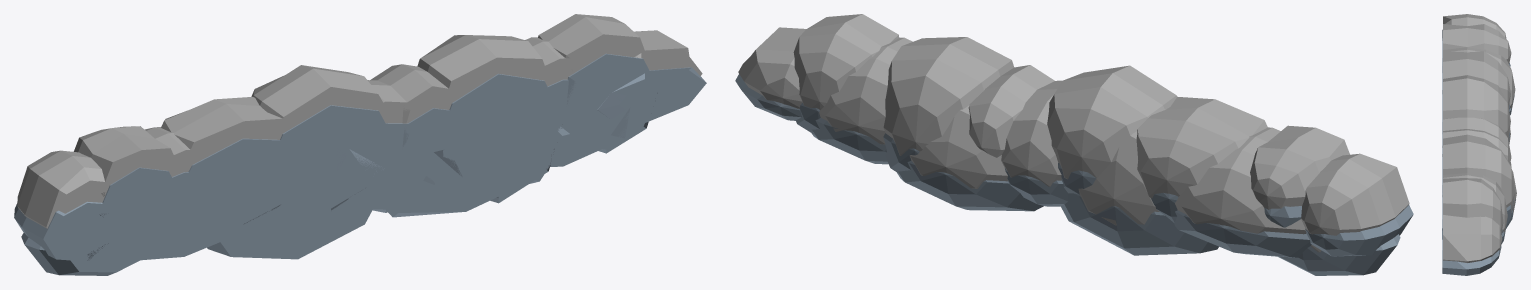
The model's file is kumo.fbx.
3 renders of one model, left to right at view 1: azimuth 30°, elevation 25°; view 2: azimuth 150°, elevation 25°; view 3: azimuth 270°, elevation 25°, orthographic. The views are drawn at different scales.
Visible parts, largest first — view 1: pSphere17; view 2: pSphere17; view 3: pSphere17.
Part boxes in pixels (x1,y1,x2,y2): pSphere17: (14, 14, 706, 275); pSphere17: (735, 14, 1413, 275); pSphere17: (1442, 14, 1516, 275).
Bounding box in the file's own units: 73.18 × 18.15 × 10.29.
